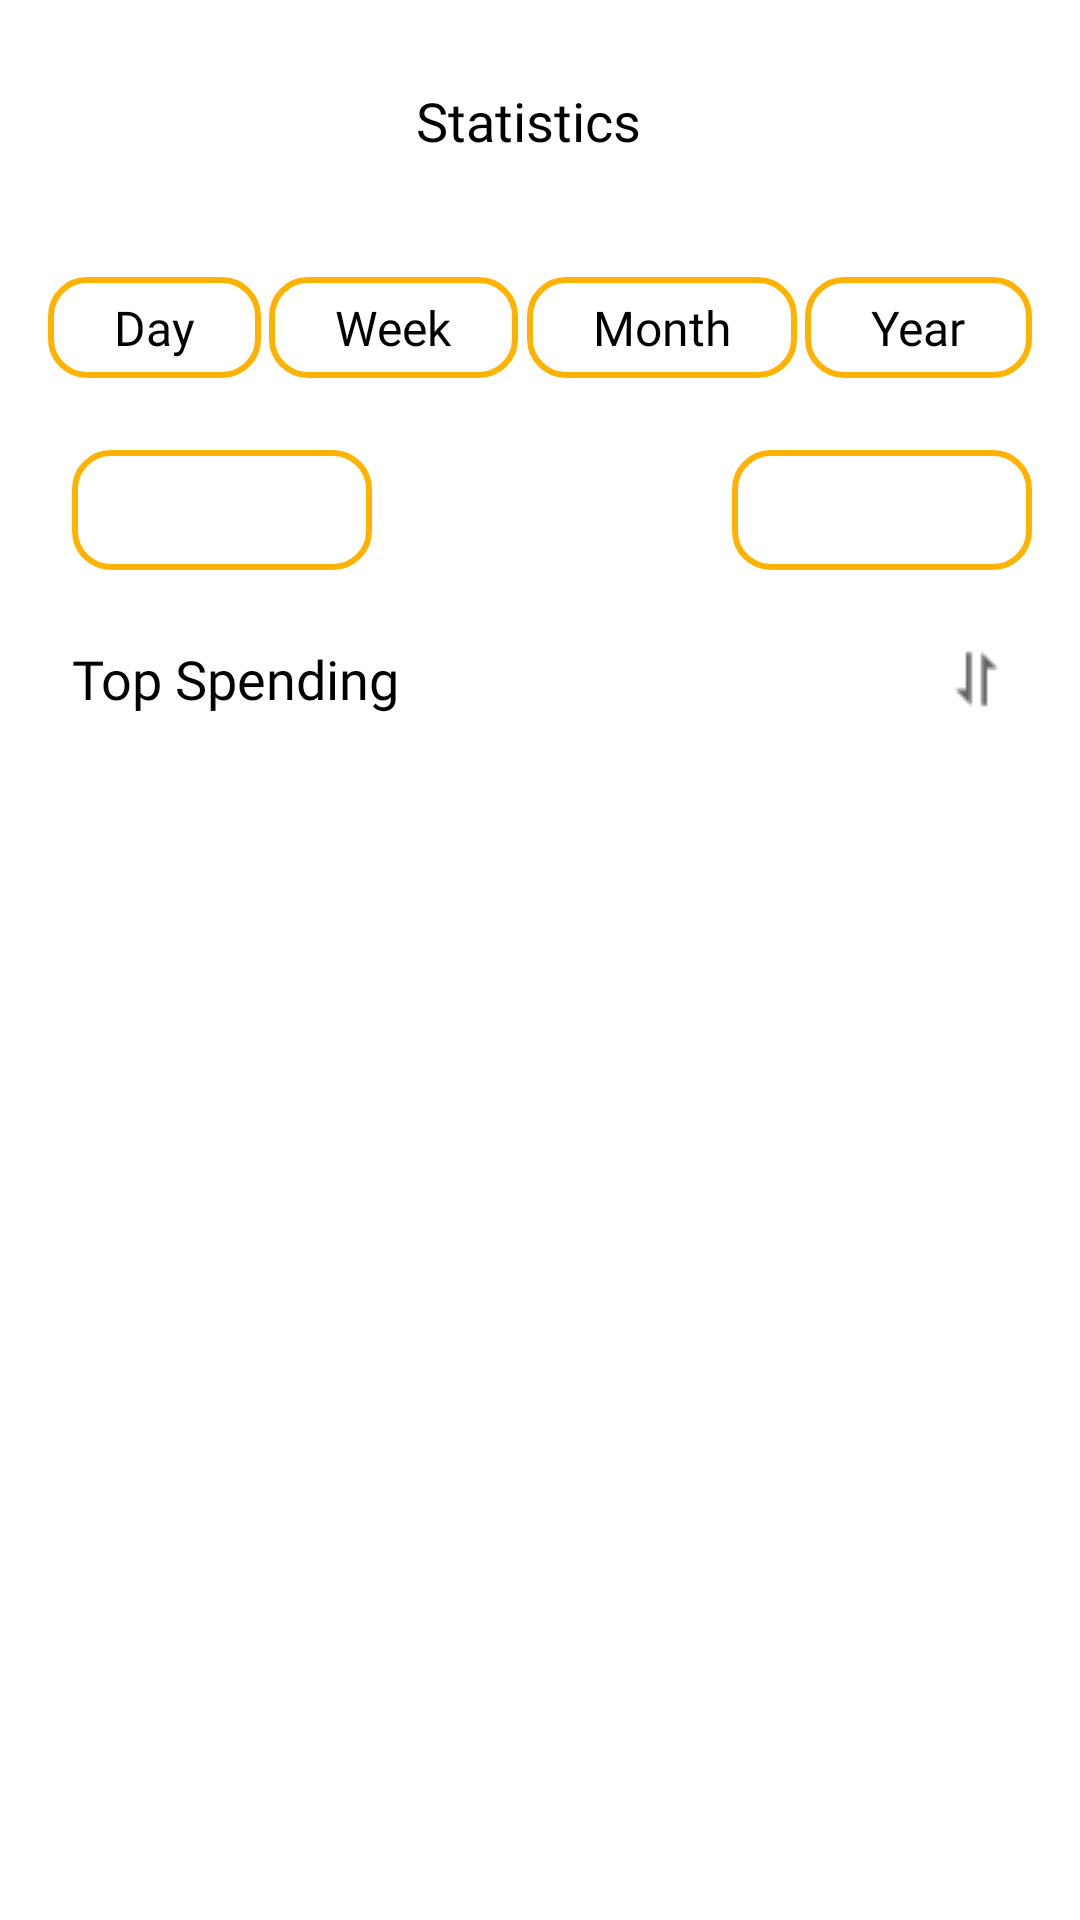

Icon bounding boxes for this 1080 x 1920 phone screenshot, format (x1, y1, x2, y2):
sort: (956, 651, 997, 707)
